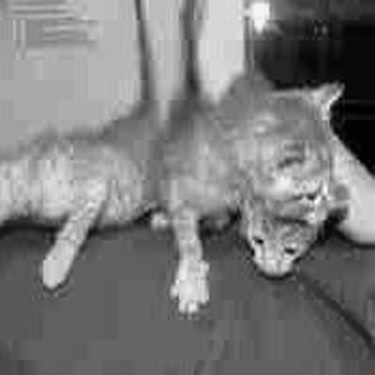cat: (5, 46, 349, 310), (220, 21, 361, 295)
